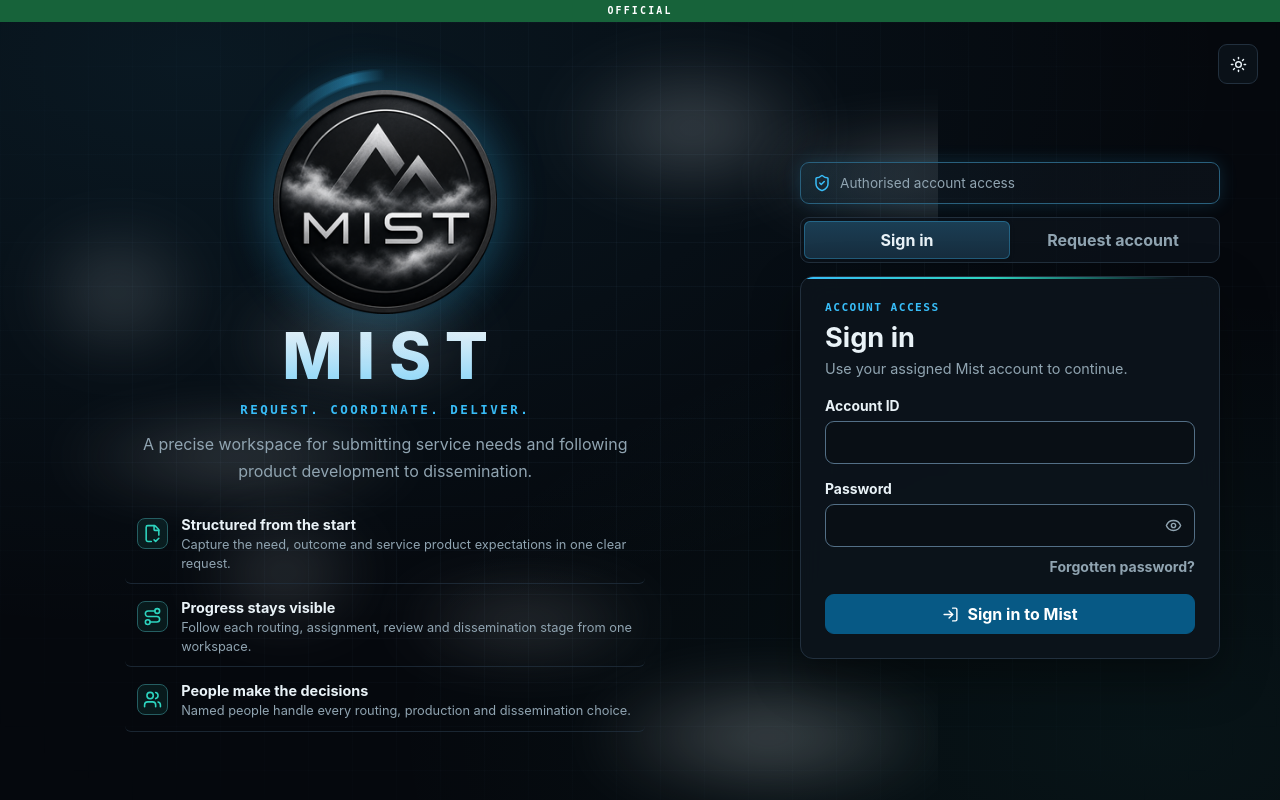
mist reveal transition › drops the mist again when sign-in fails so the error is not hidden
The image size is (1280, 800).
Type "admin2" into the field labelled "Account ID" at (1010, 443), box x1=825 y1=422 x2=1195 y2=464
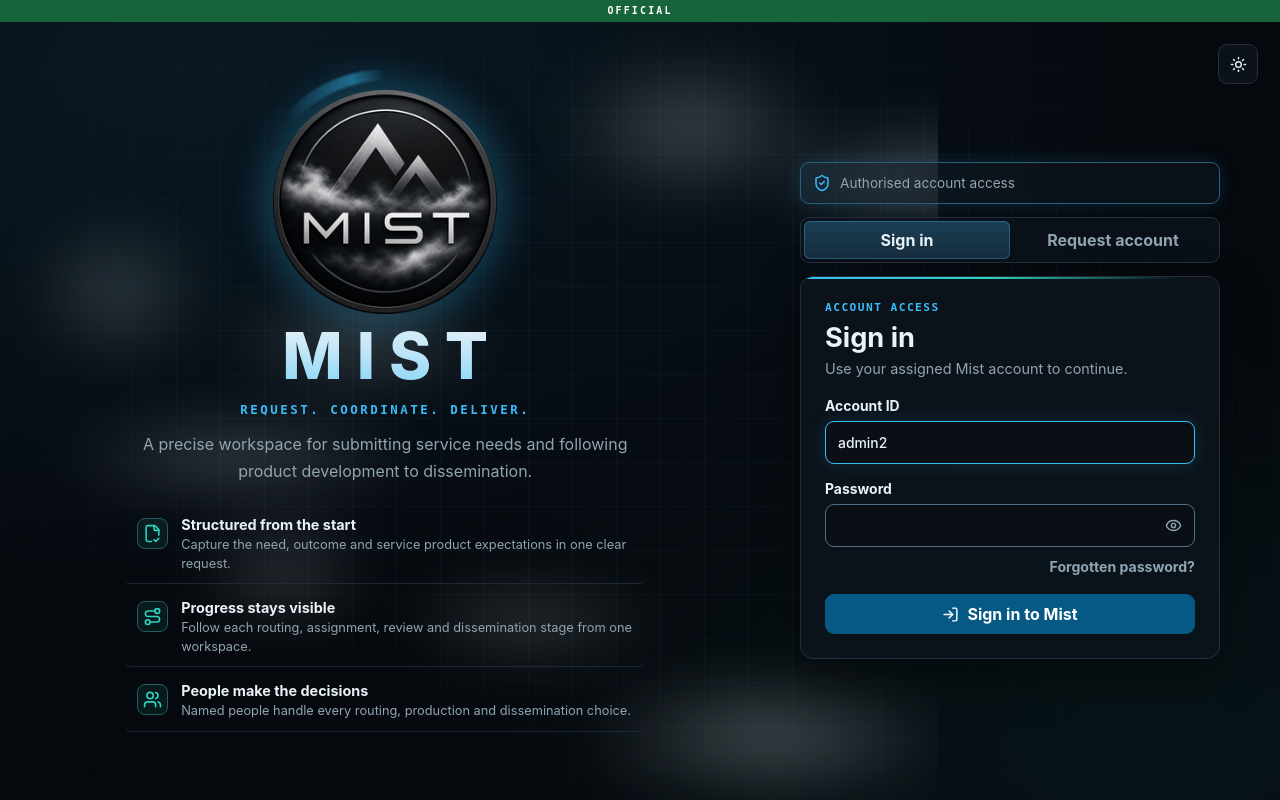
Type "wrong" into the password field labelled "Password" at (1010, 526), box x1=825 y1=504 x2=1195 y2=548
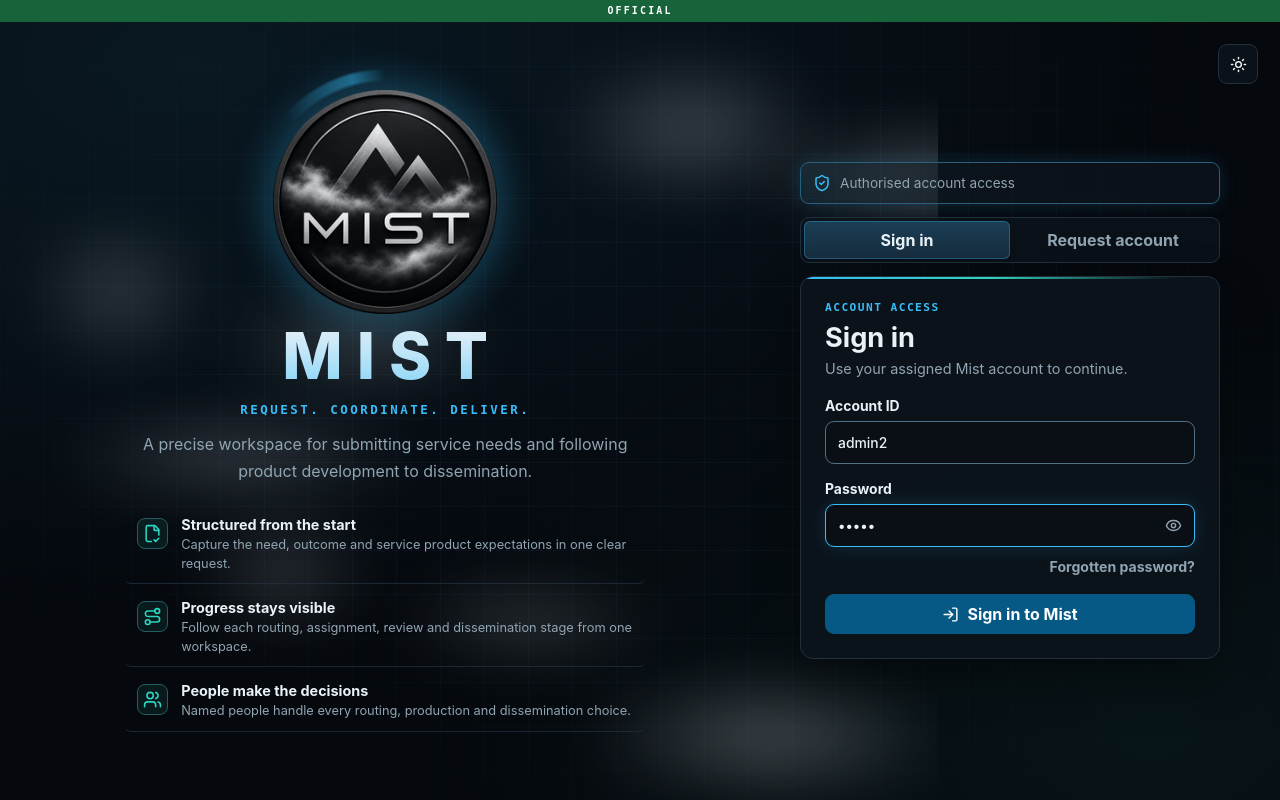
Click the button "Sign in to Mist" at (1010, 614), box x1=825 y1=594 x2=1195 y2=634
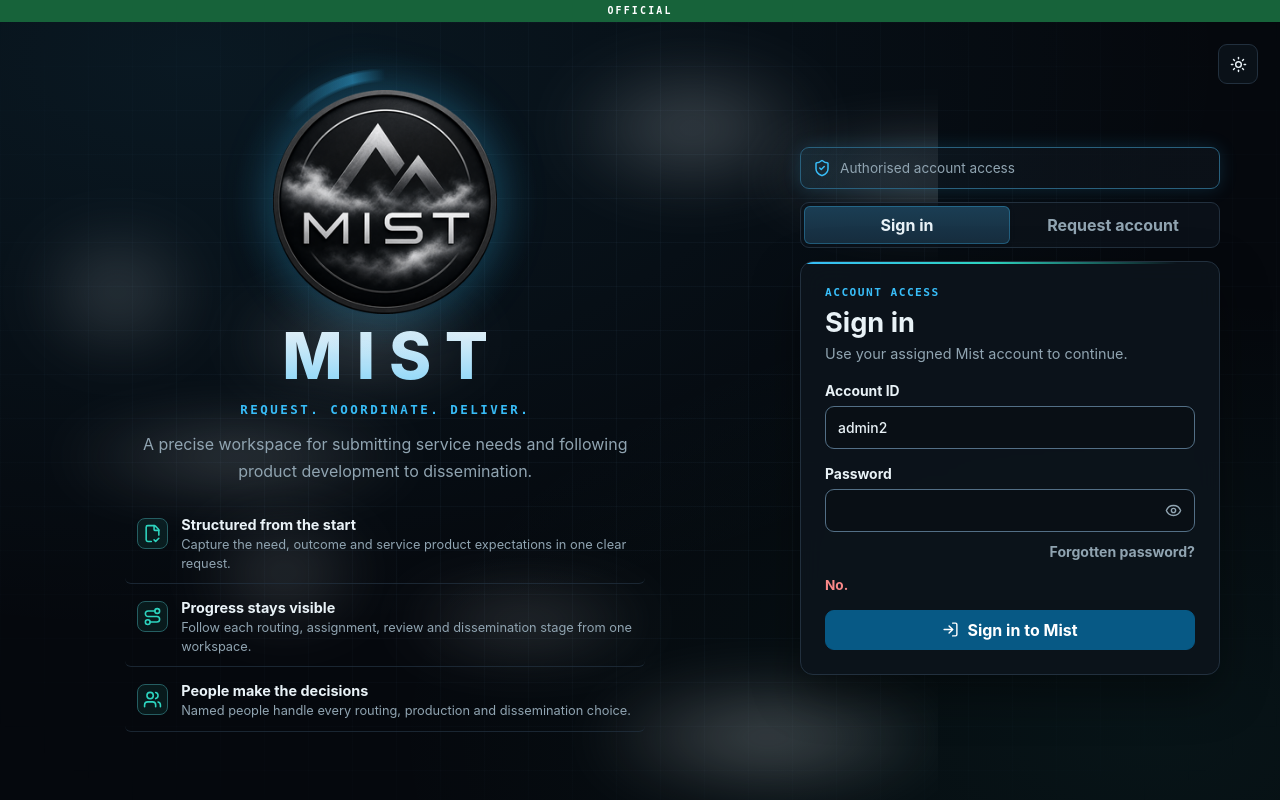
Expected: the message reads "No.", x1=825 y1=577 x2=848 y2=593
